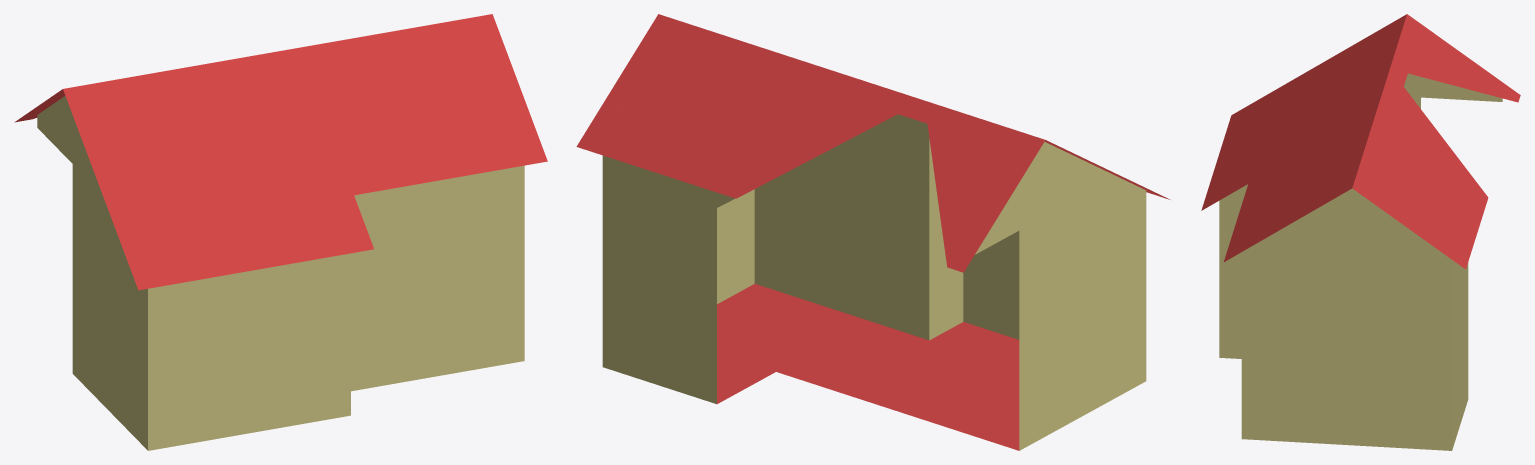
3 renders of one model, left to right at view 1: azimuth 30°, elevation 25°; view 2: azimuth 150°, elevation 25°; view 3: azimuth 270°, elevation 25°, orthographic. The views are drawn at different scales.
Bounding box in the file's own units: 21.15 × 14.98 × 13.65.
